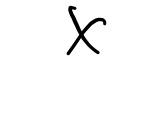mult: (67, 6, 108, 58)
